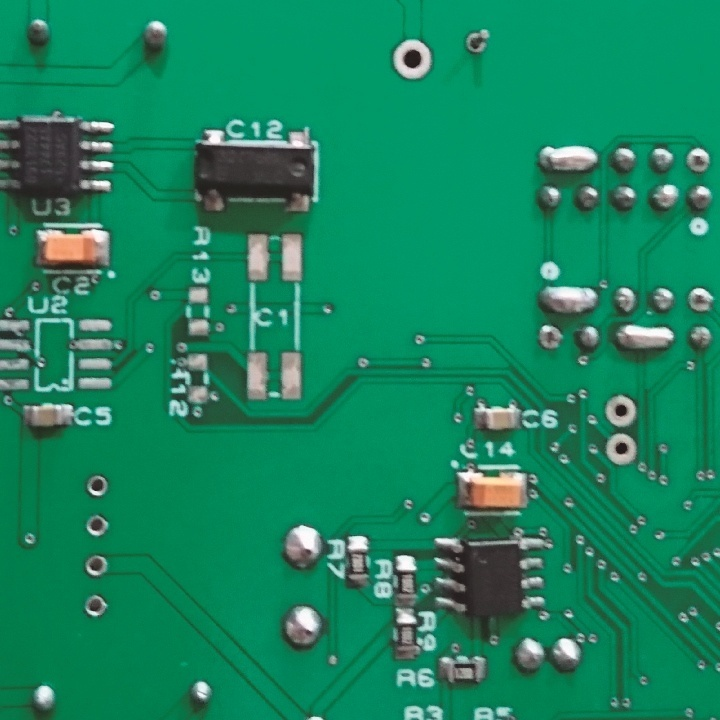F: (390, 39, 433, 82), (606, 392, 637, 430), (607, 432, 636, 469), (464, 26, 495, 60), (536, 322, 562, 355), (684, 146, 713, 175), (685, 284, 713, 314), (84, 512, 110, 539), (84, 473, 109, 501), (82, 595, 108, 620), (84, 552, 107, 578)
P: (613, 319, 676, 356), (537, 280, 598, 316), (536, 148, 599, 175)
